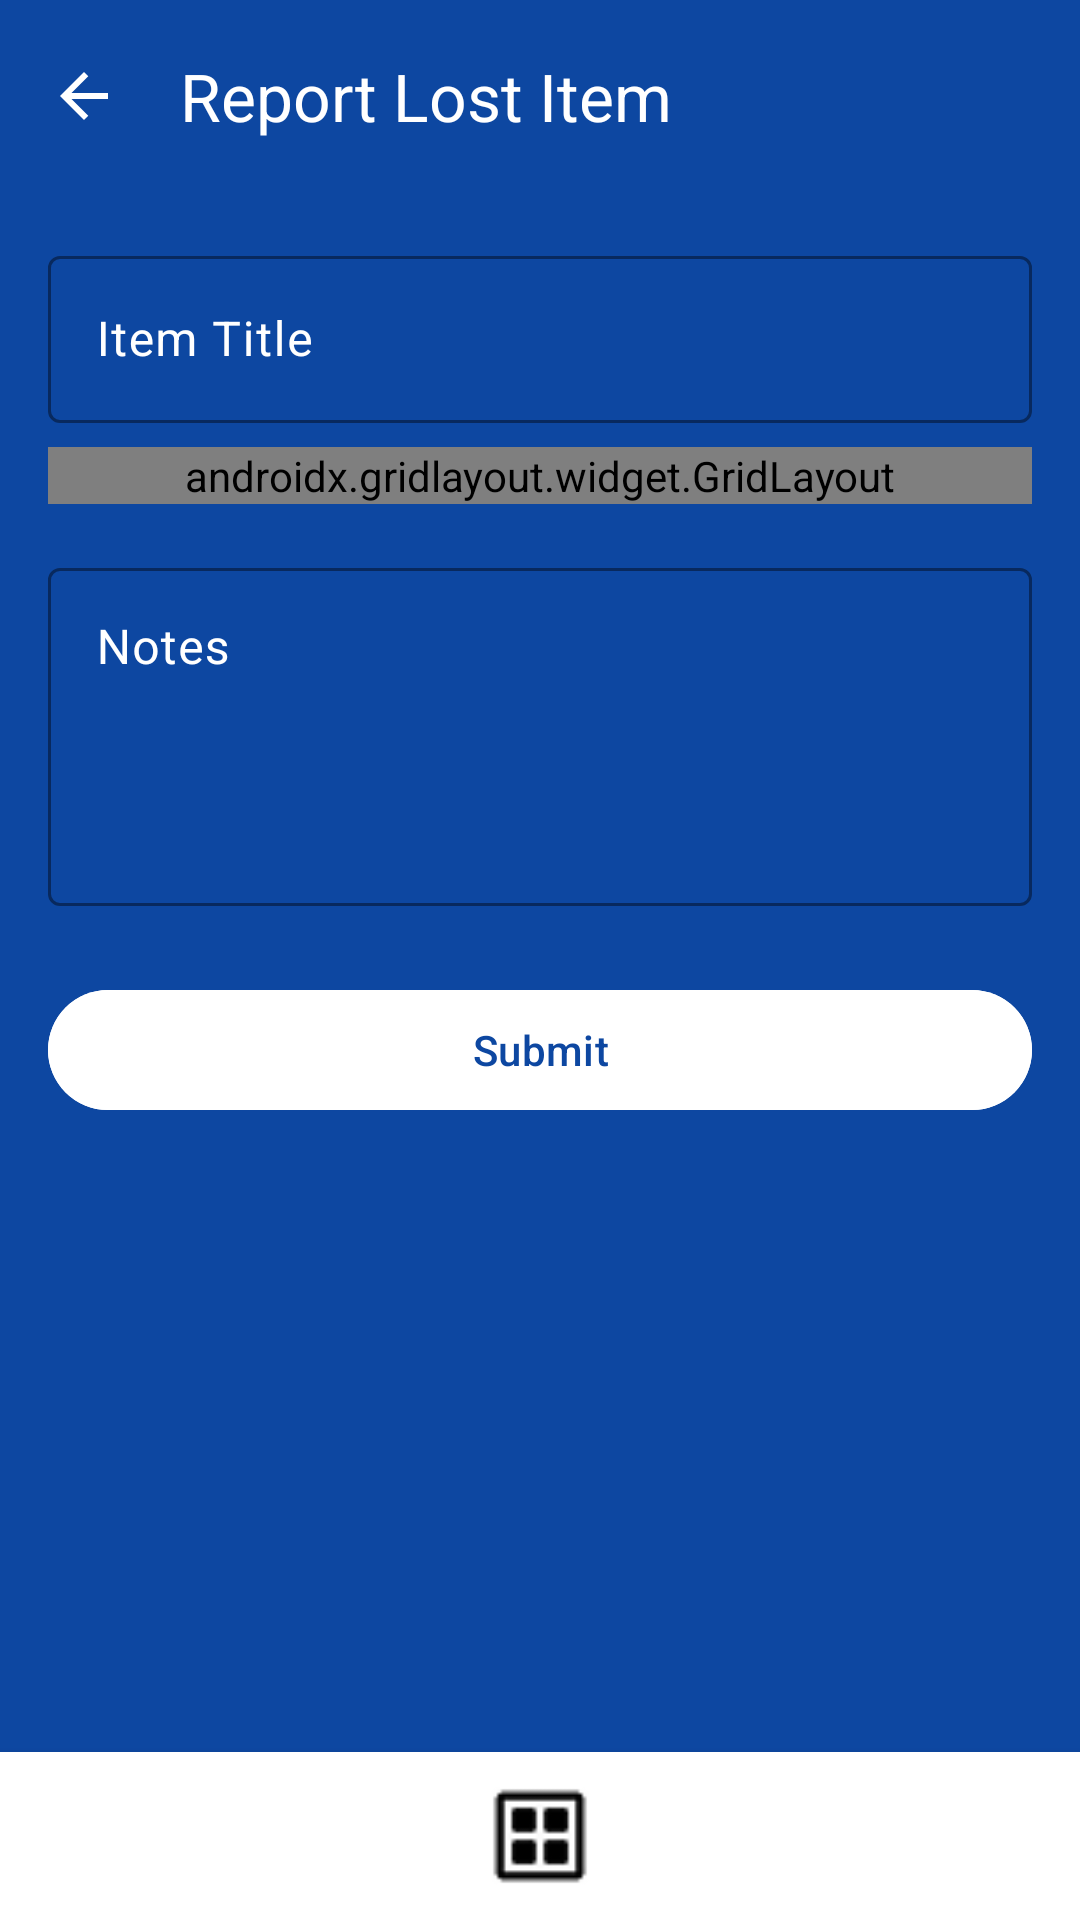

Where icons sit on this 1080x1920 app screen, as box=[x1, y1, x2, y2]:
Dashboard: box=[493, 1789, 587, 1883]
